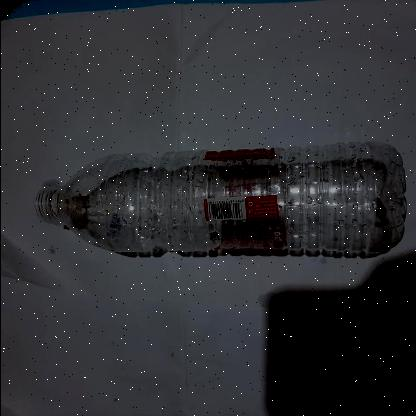Plastic Bottle: (33, 142, 405, 256)
